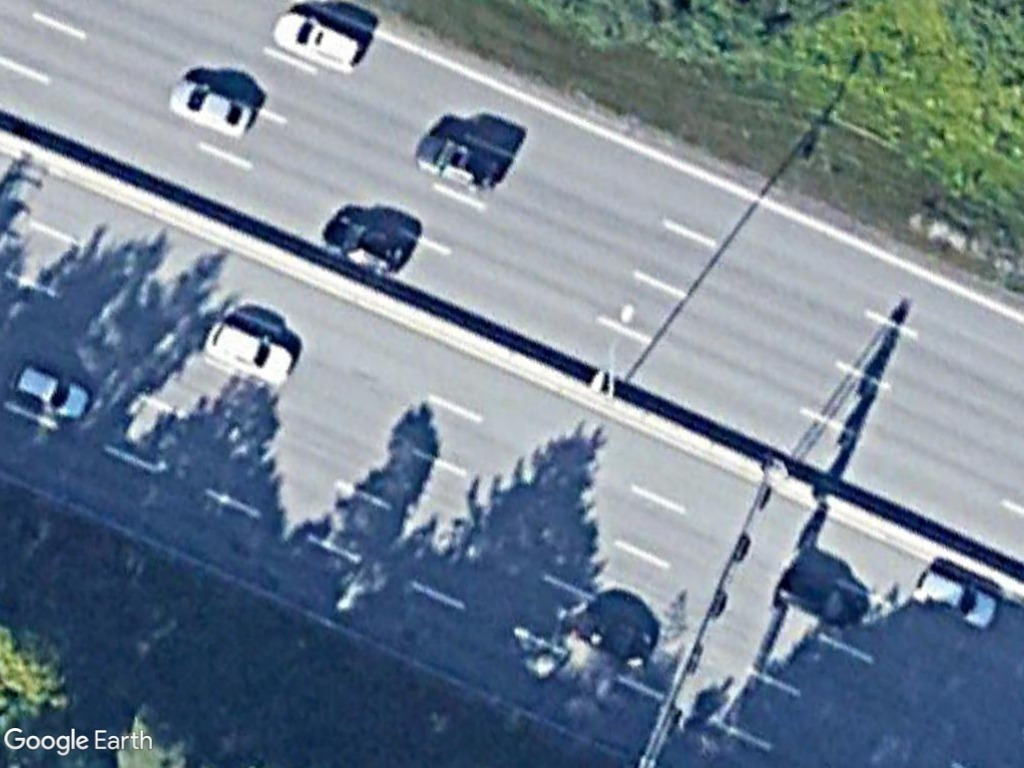car: (202, 317, 303, 390), (270, 8, 371, 75), (909, 562, 1004, 633), (412, 129, 506, 196), (320, 213, 414, 280), (166, 73, 259, 138), (9, 359, 98, 425)
